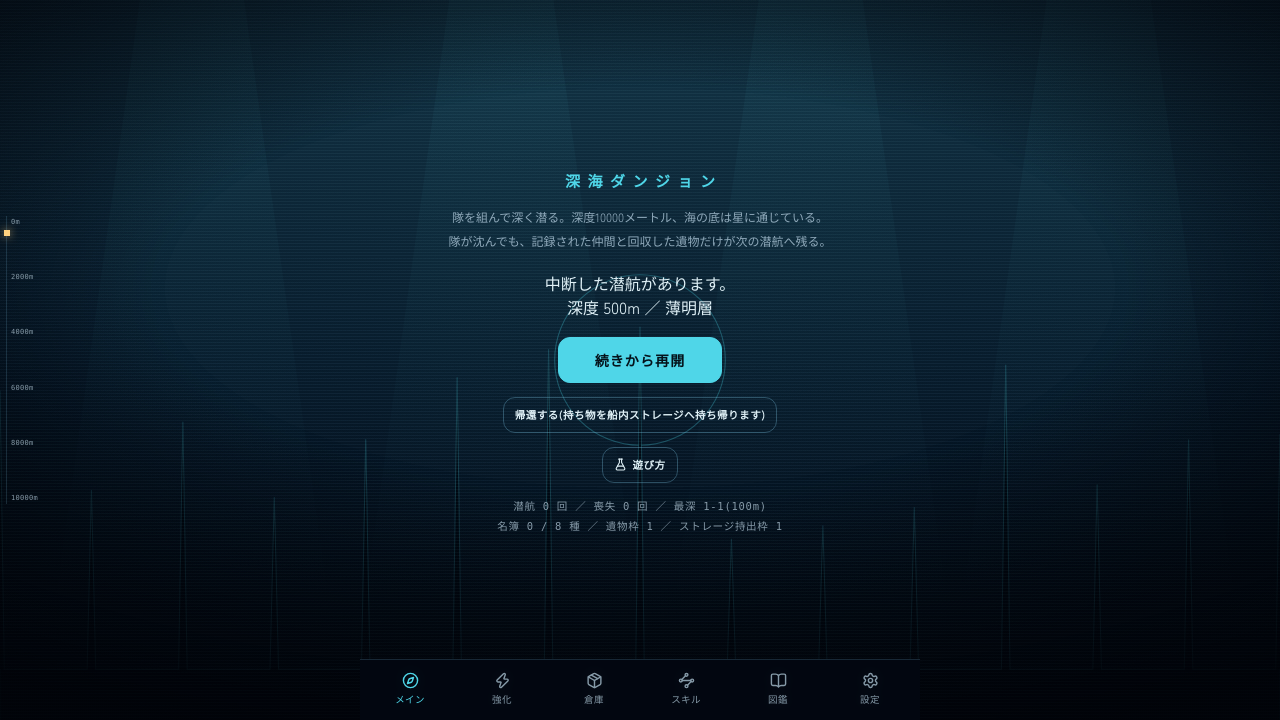
Scenario: 行商での交換 › 収納が満杯の時は鉄屑を消費せず購入に失敗する
Click the button "続きから再開" at (640, 360), box 558,337 -> 722,383
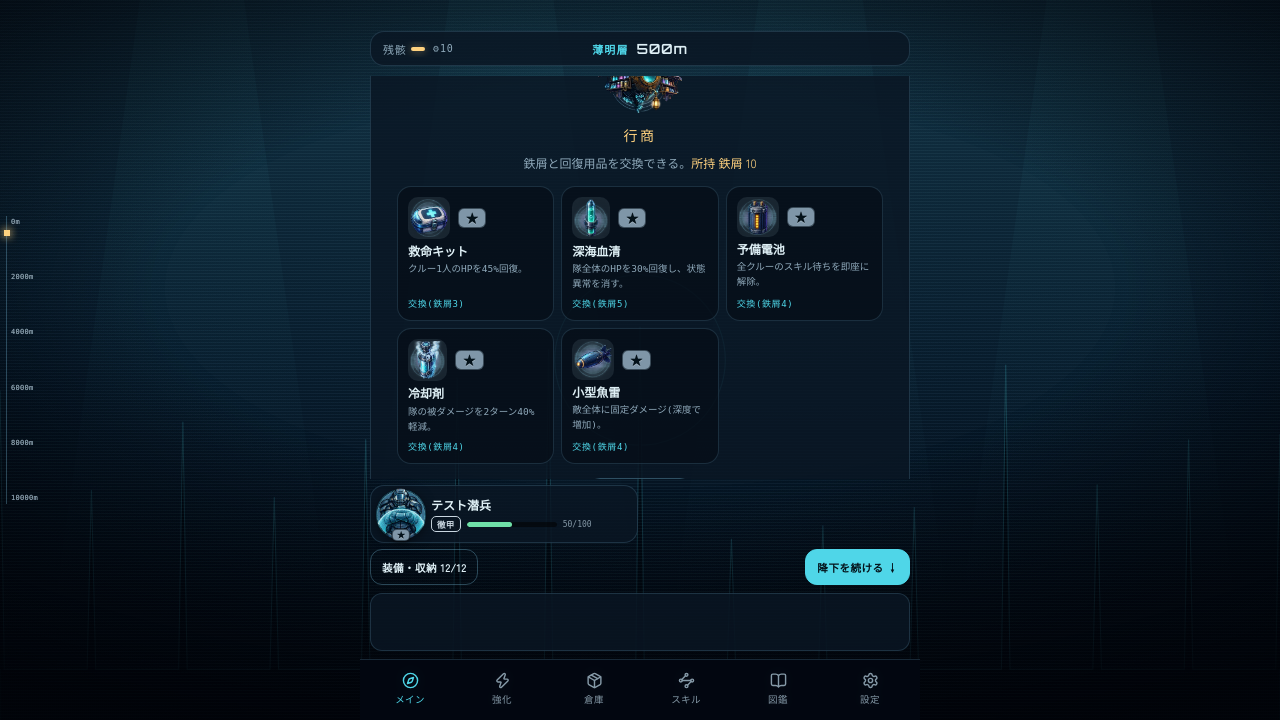
Click the button with class "sd-cell" that starts with "救命キット" at (476, 254), box 397,186 -> 554,321
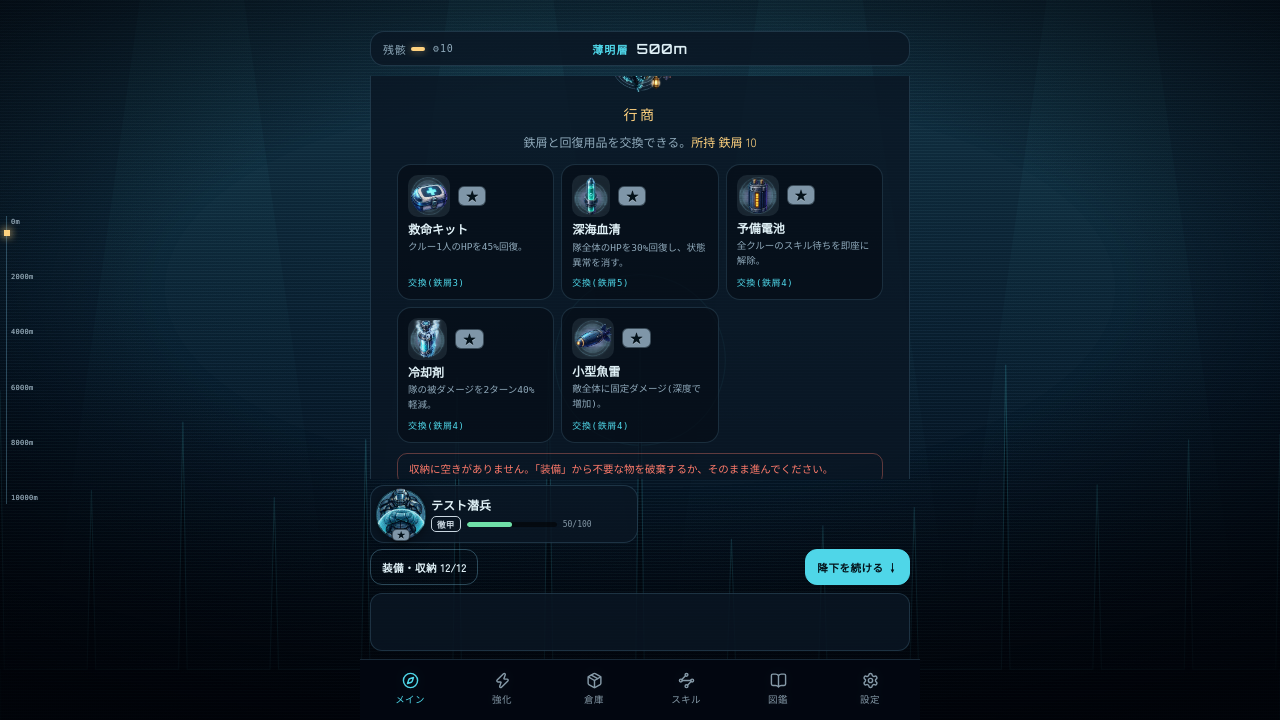
Expected: the text "収納に空きがありません" is shown, 409,463 -> 833,475
